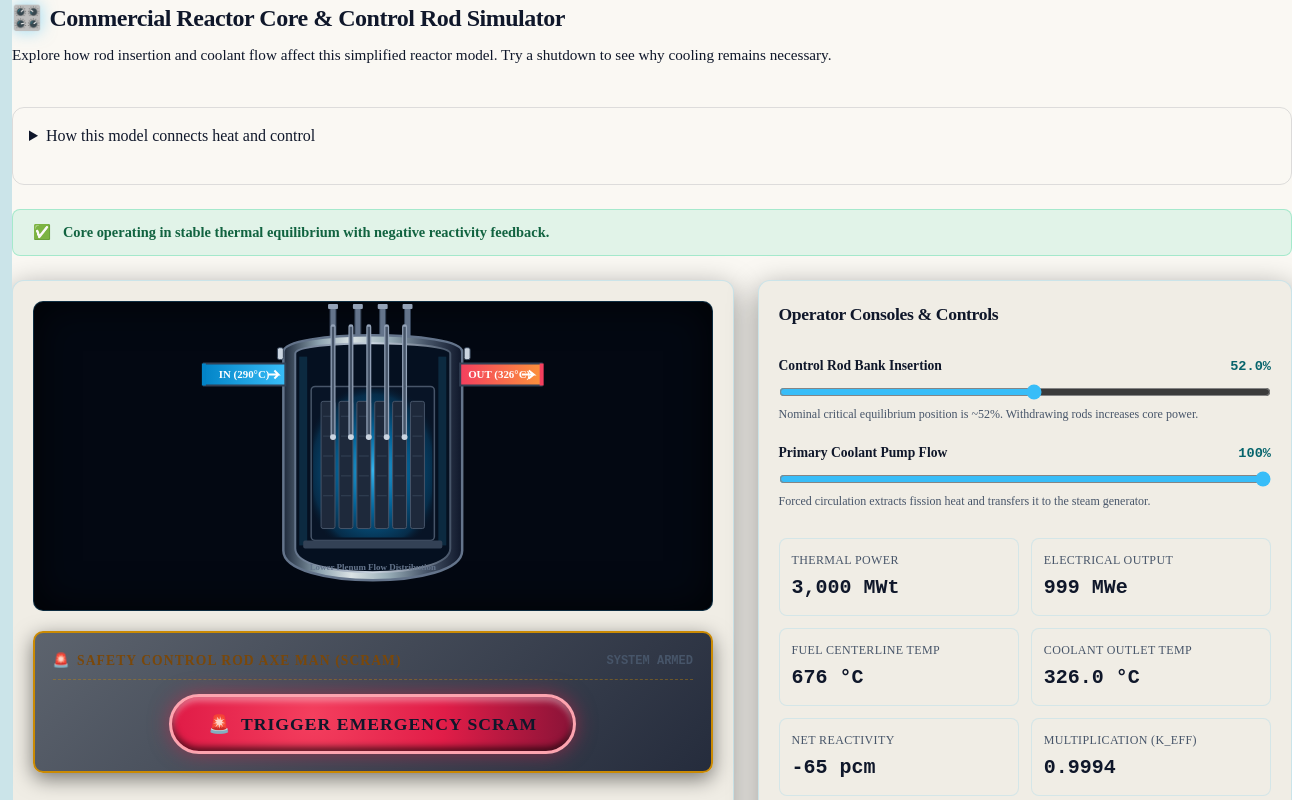
Test: ReactorControlSimulator › displays Xenon-135 poisoning telemetry and records safety trip events in the event log
The image size is (1292, 800).
Click the button "🚨 TRIGGER EMERGENCY SCRAM". click: coordinates (373, 724)
box: [169,694,576,754]
(page scrolled)
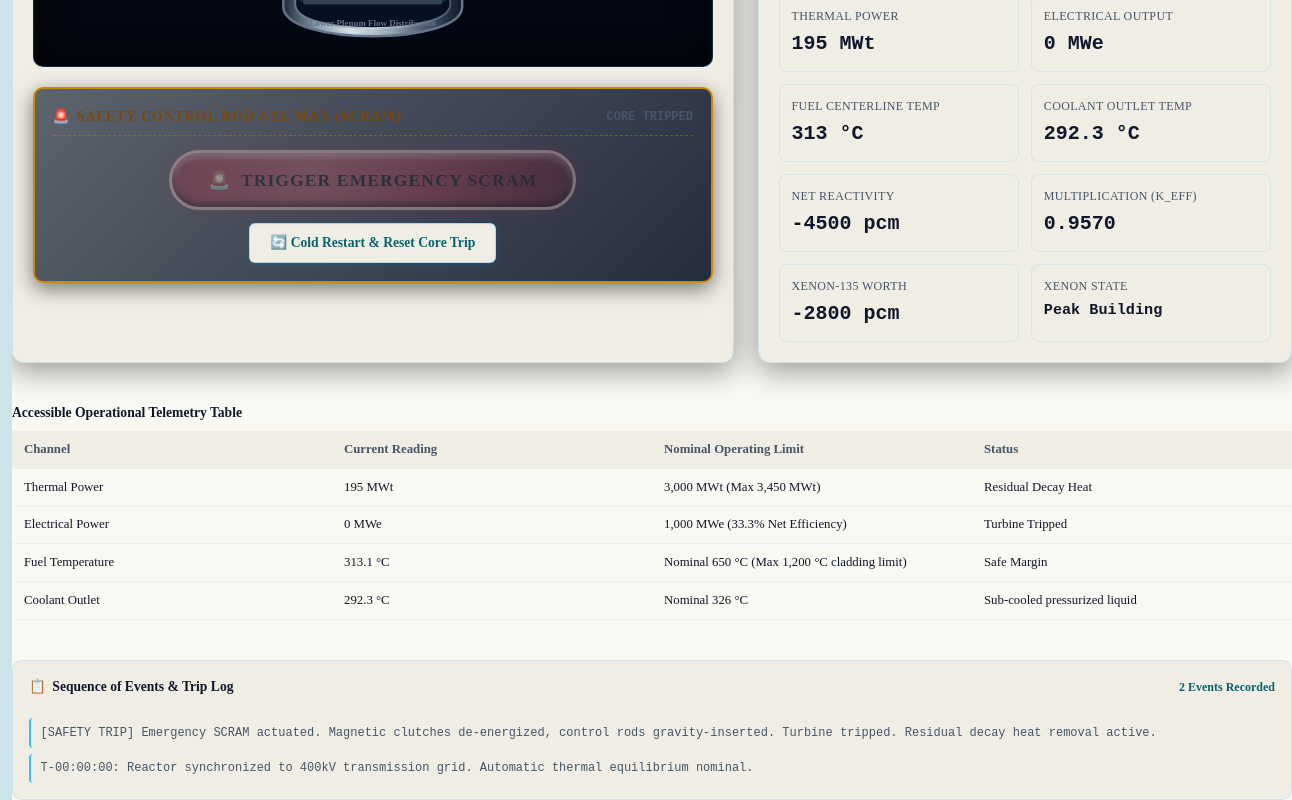
Result: the element named "Reactor Trip and Event Log" shows "[SAFETY TRIP] Emergency SCRAM actuated" at [41,726,1157,740]
